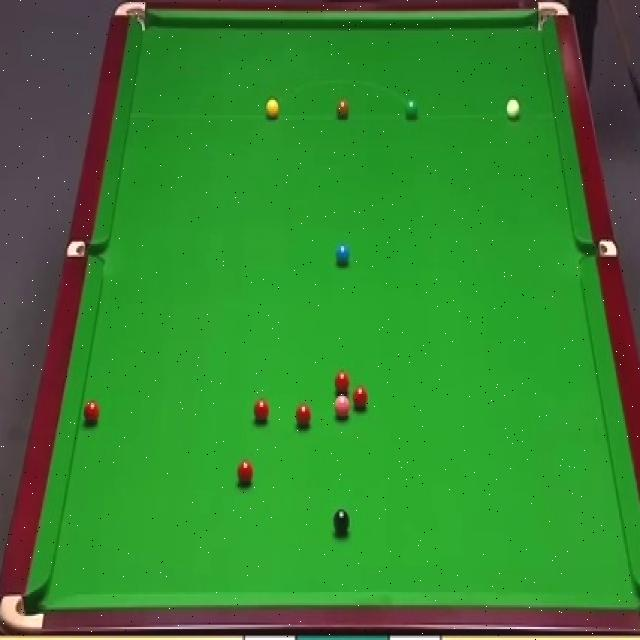black-ball: (276, 573, 293, 591)
blue-ball: (334, 243, 349, 266)
brown-ball: (336, 100, 349, 122)
green-ball: (404, 98, 420, 120)
red-ball: (349, 534, 368, 563), (199, 553, 218, 580), (319, 547, 337, 574), (237, 458, 254, 485), (295, 402, 313, 427), (389, 534, 407, 558), (253, 397, 269, 424), (352, 385, 369, 410), (334, 370, 350, 394), (84, 400, 99, 424)
white-ball: (506, 98, 521, 120)
yellow-ball: (263, 98, 280, 120)
